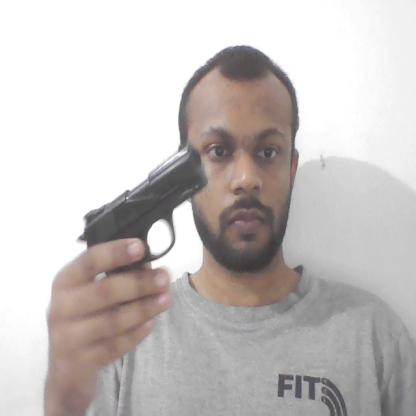handgun: (78, 146, 209, 278)
